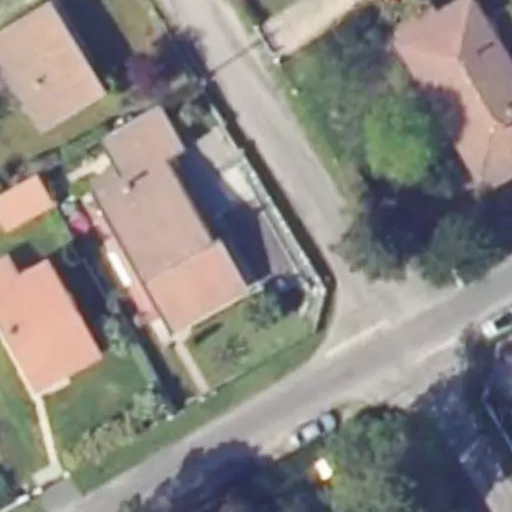pool: (213, 212, 298, 271)
